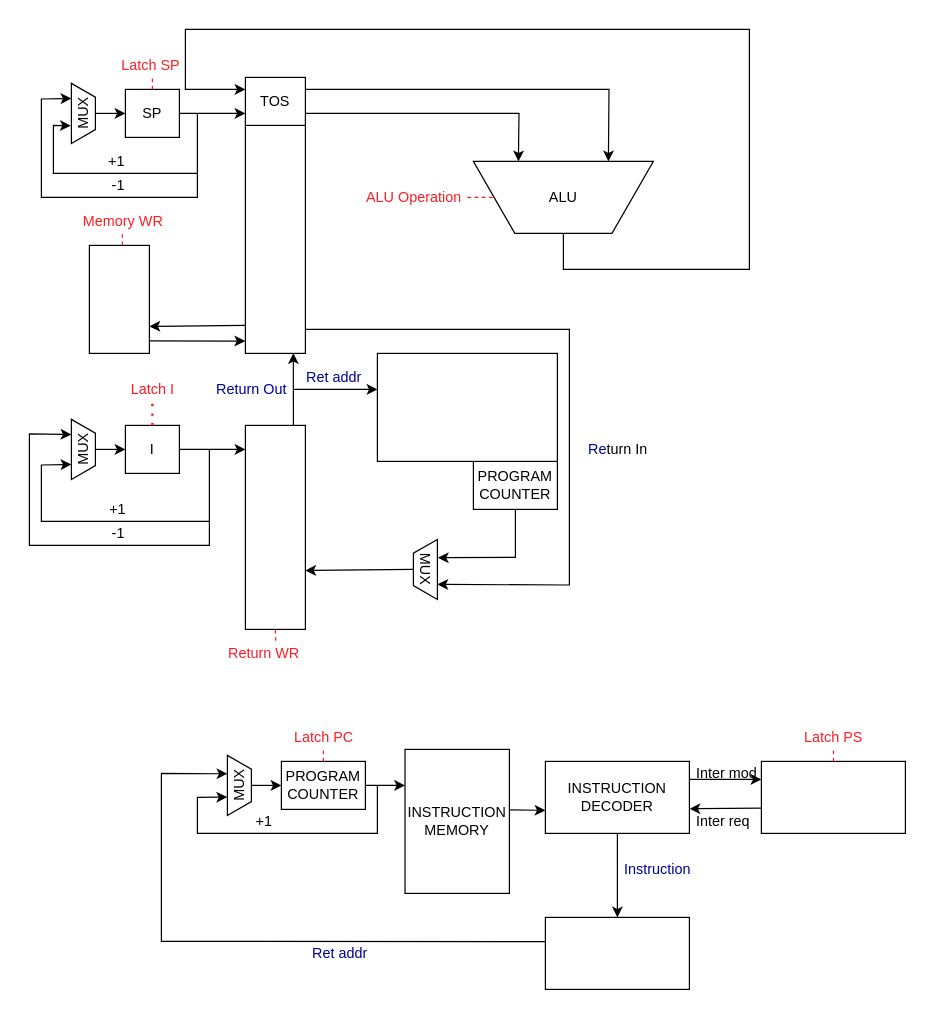
This 926x1010 diagram has some shape labels left out. Here are the shapes that lost their labels. From the top down, the centre of each, then its label:
the point at 274,238: DATA STACK
the point at 118,298: DATA
the point at 466,406: CONTROL UNIT
the point at 274,526: RETURN STECK
the point at 832,796: PROCESS STATUS
the point at 616,952: DATA PATH
